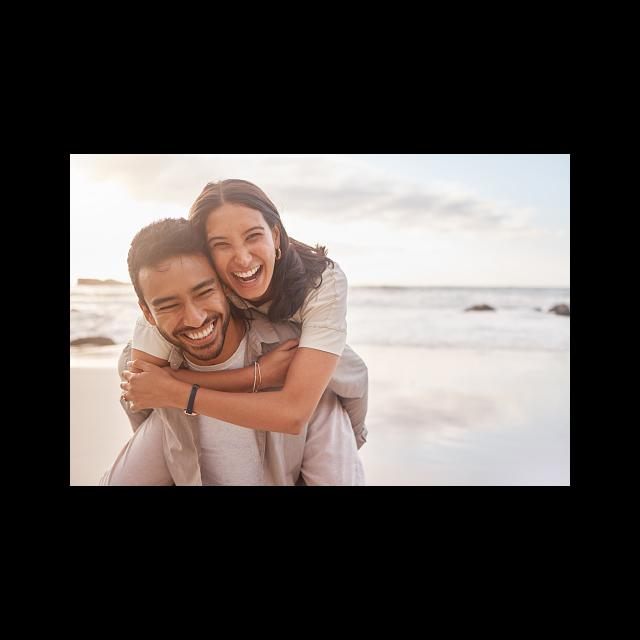female: (193, 196, 289, 312)
male: (118, 219, 223, 369)
